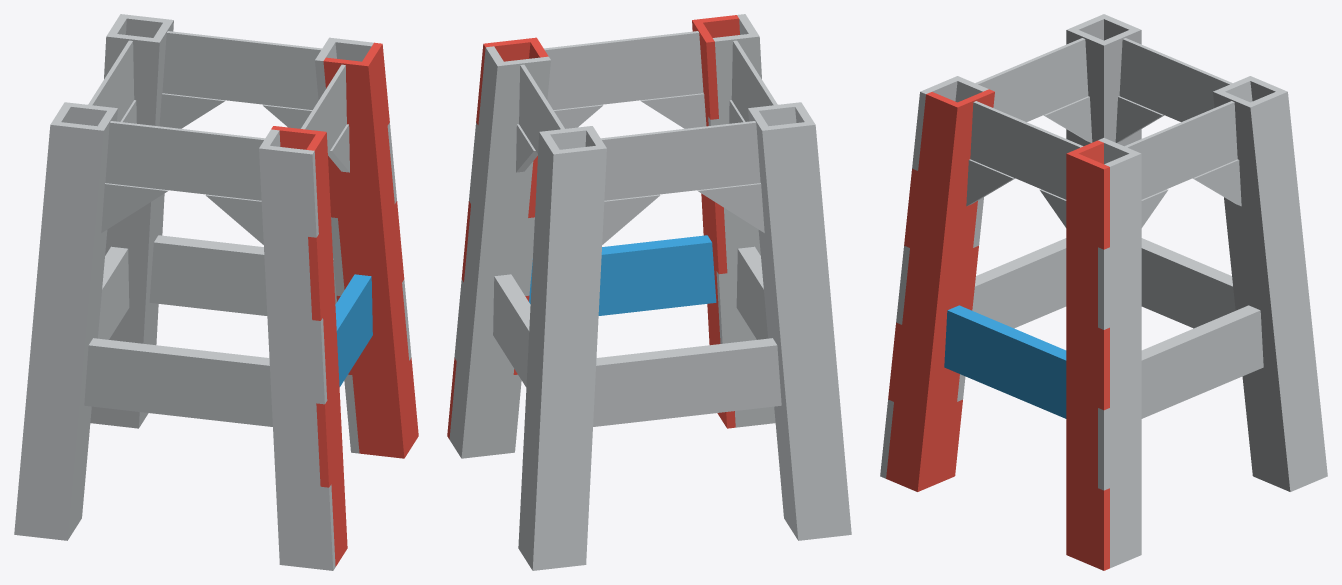
The model's file is LOWER_ABOVE.glb.
3 views of the same model, side by side, from view 1: azimuth 30°, elevation 25°; view 2: azimuth 150°, elevation 25°; view 3: azimuth 270°, elevation 25° (orthographic). The views are drawn at different scales.
Parts seen in each view (by area): view 1: A01_LEG1_NEG_P1, A02_LEG4_NEG_P1, A02_LEG2_POS_P1, C01_SIDE4_1_P1, B01_SIDE4_1_P1, B01_SIDE2_1_P1, C01_SIDE2_2_P2, A01_LEG2_NEG_P1, A01_LEG3_POS_P1, A02_LEG1_NEG_P1, A01_LEG4_POS_P1, C01_SIDE1_1_P1 (+24 smaller); view 2: A01_LEG4_NEG_P1, A02_LEG3_NEG_P1, A01_LEG2_POS_P1, C01_SIDE3_1_P1, B01_SIDE3_1_P1, B01_SIDE1_1_P1, C01_SIDE1_2_P2, A01_LEG3_NEG_P1, A02_LEG2_NEG_P1, A02_LEG1_POS_P1, A02_LEG4_POS_P1, A01_LEG1_POS_P1 (+24 smaller); view 3: A01_LEG2_NEG_P1, A01_LEG3_NEG_P1, A02_LEG1_NEG_P1, A02_LEG2_NEG_P1, A01_LEG1_POS_P1, A02_LEG3_POS_P1, C01_SIDE1_1_P1, C01_SIDE2_1_P1, B01_SIDE1_1_P1, B01_SIDE2_1_P1, B01_SIDE3_1_P1, B01_SIDE4_1_P1 (+25 smaller).
Part boxes in pixels (box(x1,y1,x2,y2)): A01_LEG1_NEG_P1: box(259, 146, 334, 570); A02_LEG4_NEG_P1: box(21, 124, 97, 539); A02_LEG2_POS_P1: box(323, 59, 398, 457); C01_SIDE4_1_P1: box(84, 343, 272, 426); B01_SIDE4_1_P1: box(105, 121, 264, 200); B01_SIDE2_1_P1: box(162, 31, 321, 109); C01_SIDE2_2_P2: box(149, 240, 336, 315); A01_LEG2_NEG_P1: box(364, 43, 418, 458); A01_LEG3_POS_P1: box(90, 34, 160, 428); A02_LEG1_NEG_P1: box(311, 135, 345, 566); A01_LEG4_POS_P1: box(63, 107, 117, 540); C01_SIDE1_1_P1: box(336, 275, 372, 386); A01_LEG4_NEG_P1: box(761, 123, 851, 540); A02_LEG3_NEG_P1: box(535, 147, 602, 569); A01_LEG2_POS_P1: box(460, 58, 550, 458); C01_SIDE3_1_P1: box(593, 343, 781, 426); B01_SIDE3_1_P1: box(601, 121, 760, 200); B01_SIDE1_1_P1: box(544, 31, 703, 109); C01_SIDE1_2_P2: box(529, 240, 716, 315); A01_LEG3_NEG_P1: box(518, 131, 557, 570); A02_LEG2_NEG_P1: box(449, 47, 499, 454); A02_LEG1_POS_P1: box(709, 35, 771, 427); A02_LEG4_POS_P1: box(750, 111, 795, 536); A01_LEG1_POS_P1: box(692, 19, 731, 428); A01_LEG2_NEG_P1: box(1066, 152, 1106, 570); A01_LEG3_NEG_P1: box(1247, 90, 1327, 491); A02_LEG1_NEG_P1: box(886, 93, 953, 489); A02_LEG2_NEG_P1: box(1101, 155, 1141, 568); A01_LEG1_POS_P1: box(914, 90, 994, 491); A02_LEG3_POS_P1: box(1219, 93, 1285, 489); C01_SIDE1_1_P1: box(944, 309, 1066, 418); C01_SIDE2_1_P1: box(1141, 309, 1263, 418); B01_SIDE1_1_P1: box(970, 101, 1083, 199); B01_SIDE2_1_P1: box(1124, 101, 1237, 199); B01_SIDE3_1_P1: box(1119, 38, 1232, 121); B01_SIDE4_1_P1: box(975, 38, 1088, 121).
Size of the model in its own units: 0.4221 by 0.4 by 0.4221.
